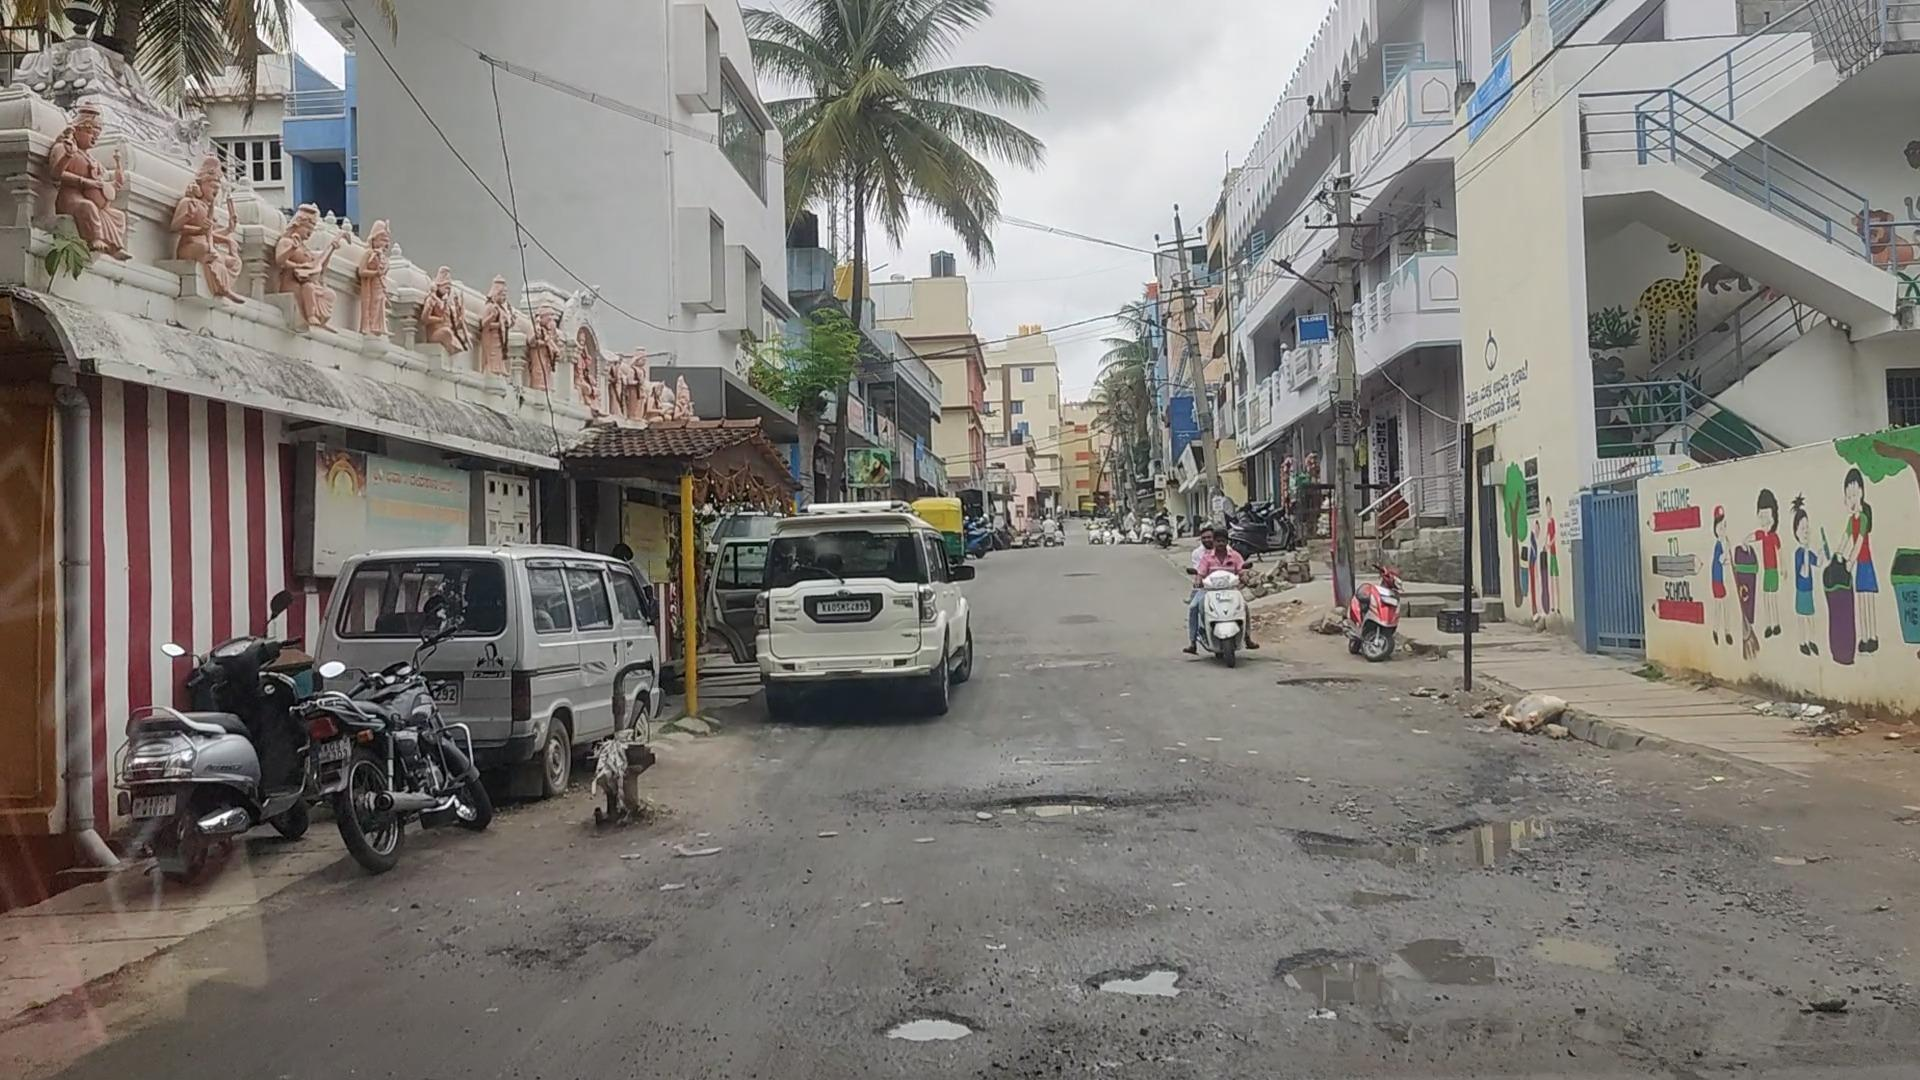LMV: (1174, 527, 1236, 636)
RoadDamages: (1580, 1010, 1847, 1076), (1284, 807, 1553, 869), (951, 769, 1168, 837), (1276, 934, 1486, 996), (1063, 945, 1193, 1044), (1502, 890, 1619, 993), (872, 1007, 977, 1047)
